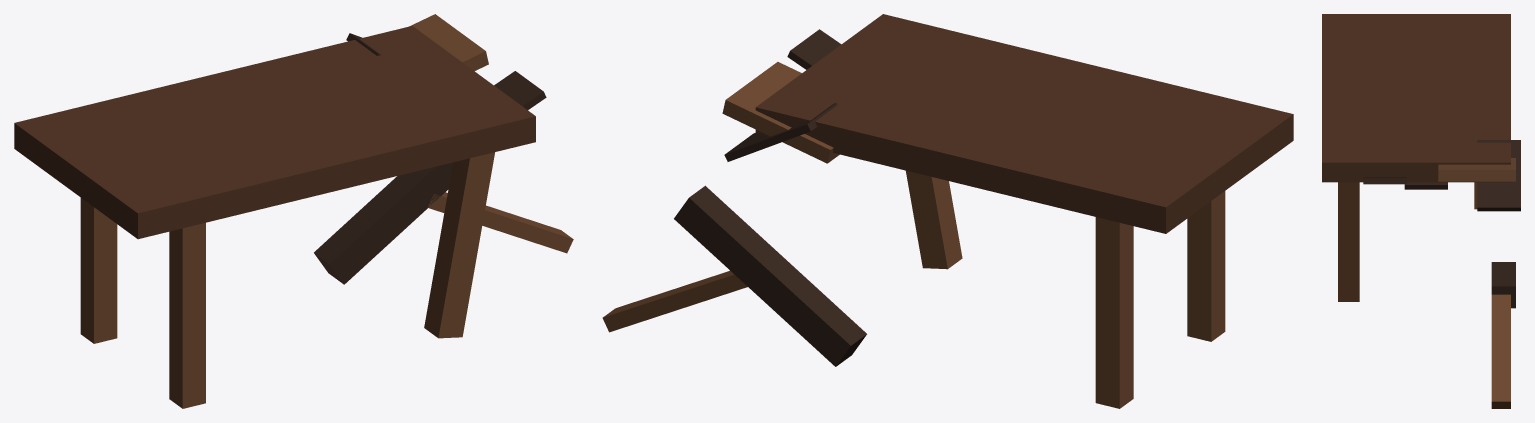
File: Collapsed_Table.obj
3 renders of one model, left to right at view 1: azimuth 30°, elevation 25°; view 2: azimuth 150°, elevation 25°; view 3: azimuth 270°, elevation 25°, orthographic. The views are drawn at different scales.
Bounding box in the file's own units: 1.99 × 0.8918 × 0.82.
